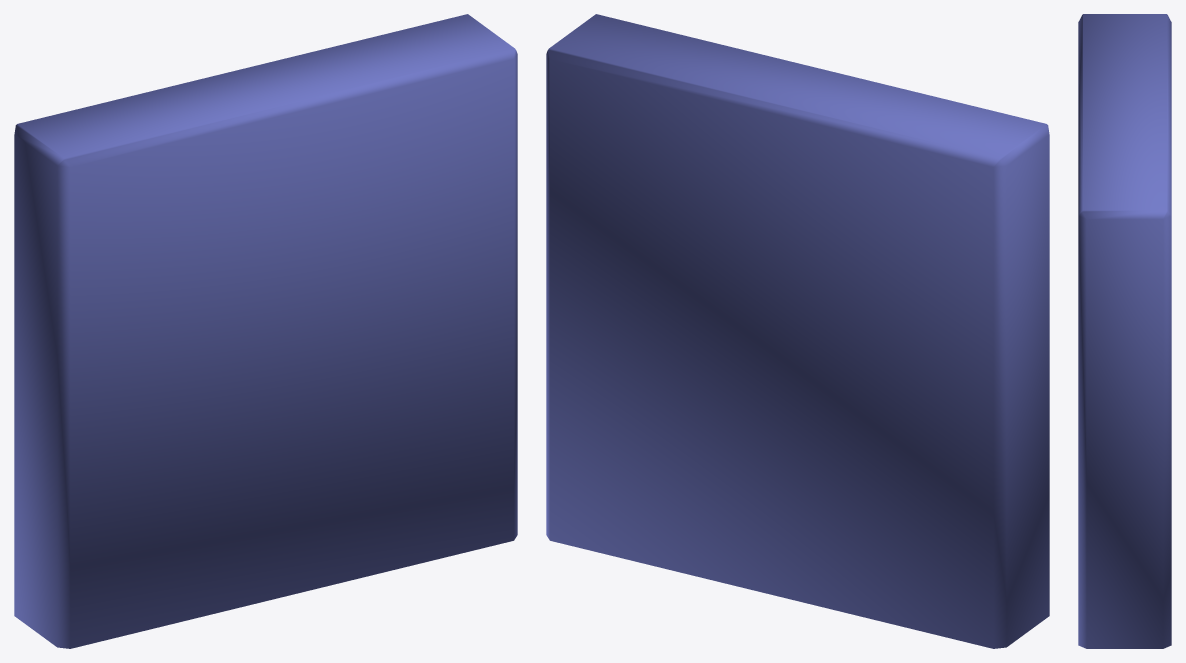
File: wall2.fbx
The picture shows the model from 3 angles, left to right: view 1: azimuth 30°, elevation 25°; view 2: azimuth 150°, elevation 25°; view 3: azimuth 270°, elevation 25°; orthographic projection. The views are drawn at different scales.
Parts seen in each view (by area): view 1: Куб.001; view 2: Куб.001; view 3: Куб.001.
Part boxes in pixels (x1=…): Куб.001: x1=14, y1=14, x2=517, y2=648; Куб.001: x1=546, y1=14, x2=1049, y2=648; Куб.001: x1=1078, y1=14, x2=1171, y2=648.
Size of the model in its own units: 200 by 203 by 39.46.
